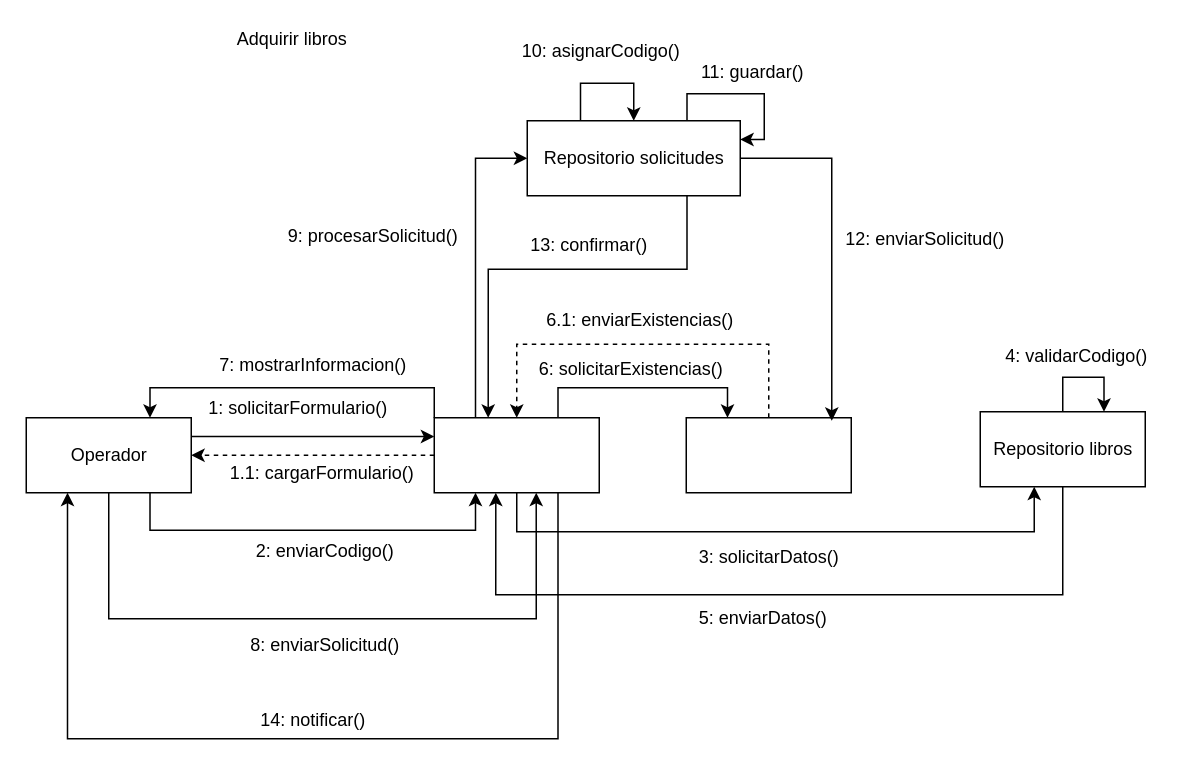
The diagram is 1181 pixels wide and 777 high, and some of its shapes have lost their labels. Each missing label, with the box of its shape:
Almacen: (685, 416, 851, 493)
Sistema: (433, 416, 599, 493)
